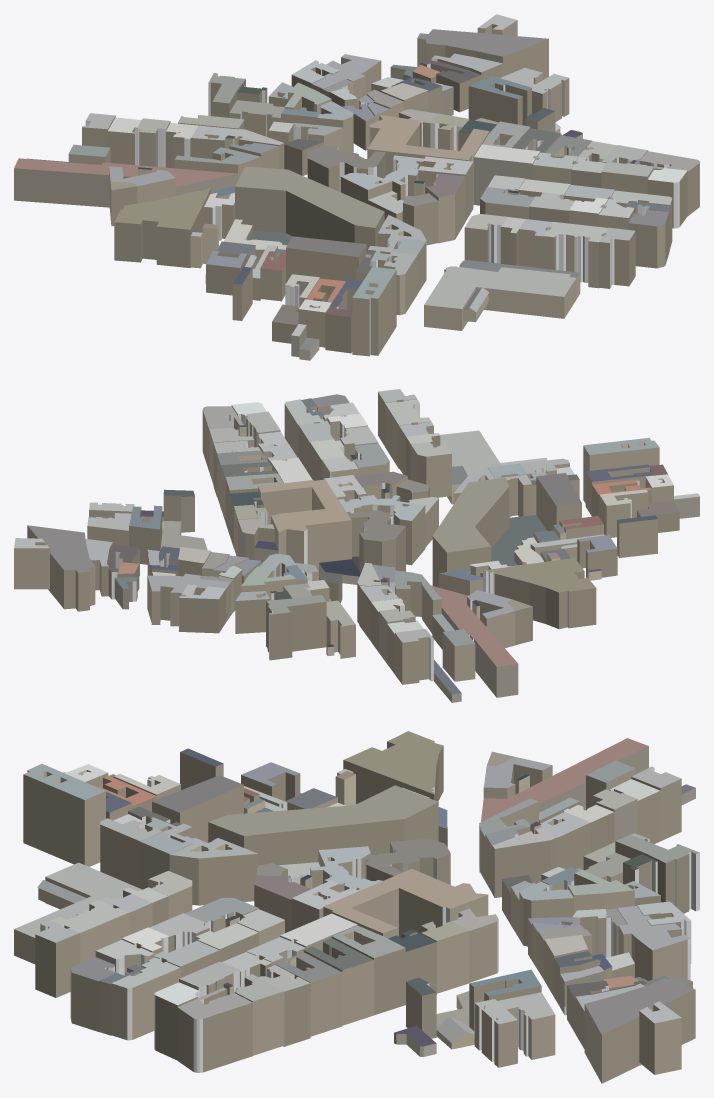
3 renders of one model, top to bottom at view 1: azimuth 30°, elevation 25°; view 2: azimuth 150°, elevation 25°; view 3: azimuth 270°, elevation 25°, orthographic. The views are drawn at different scales.
Visible parts, largest first — view 1: tuile; view 2: tuile; view 3: tuile.
Part boxes in pixels (left/top/right/bottom): tuile: left=14, top=14, right=699, bottom=360; tuile: left=14, top=389, right=699, bottom=702; tuile: left=14, top=731, right=699, bottom=1083.
Size of the model in its own units: 292 by 32.79 by 275.
